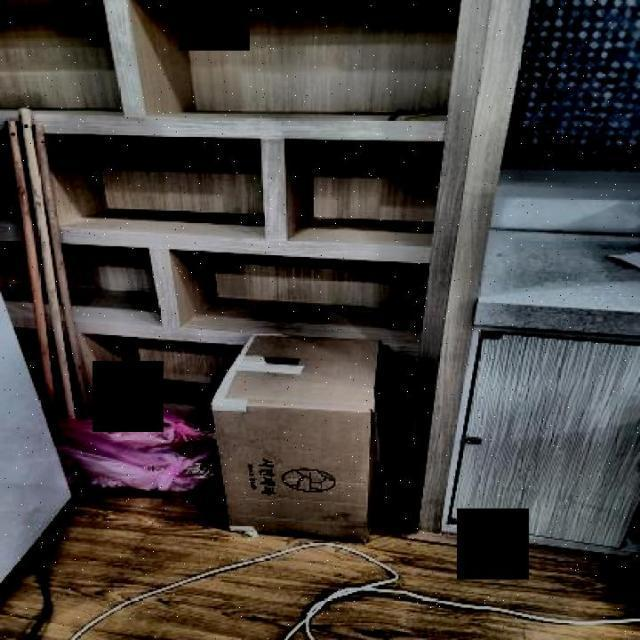box: (200, 320, 403, 554)
